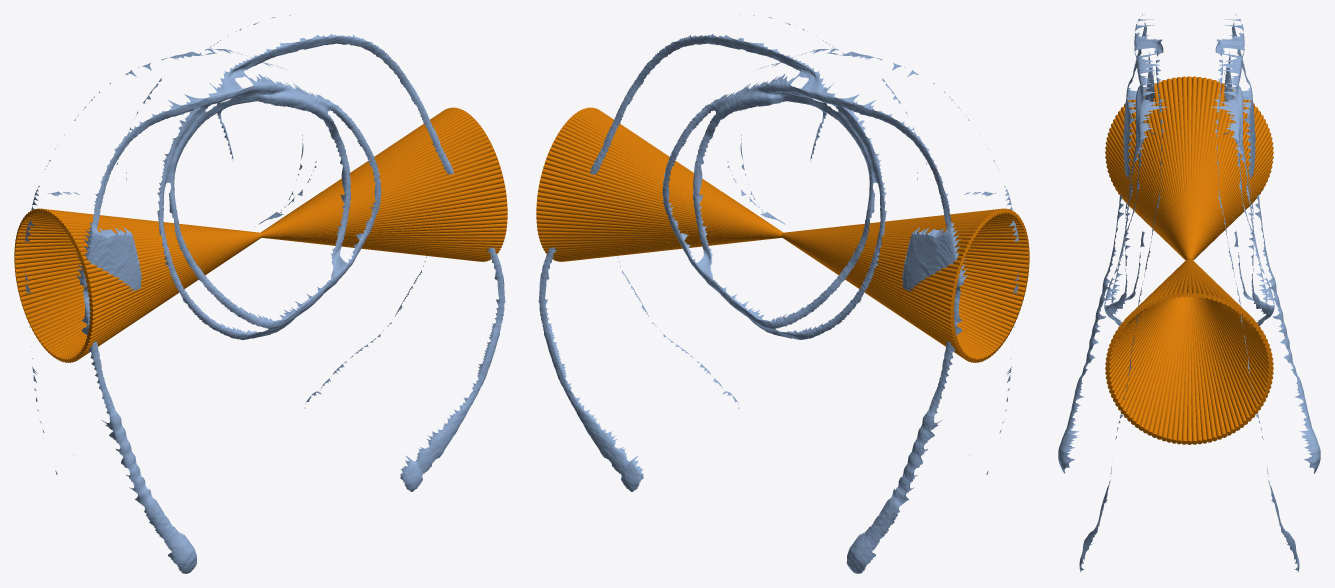
Rendered from A20023510_6145-37-530-7661_DigitalTwin.glb.
3 renders of one model, left to right at view 1: azimuth 30°, elevation 25°; view 2: azimuth 150°, elevation 25°; view 3: azimuth 270°, elevation 25°, orthographic. The views are drawn at different scales.
Visible parts, largest first — view 1: world; view 2: world; view 3: world.
Boxes of the visible parts, box(x1,y1,x2,y2) form: world: box(14, 15, 507, 573); world: box(536, 15, 1029, 573); world: box(1058, 14, 1320, 571).
Size of the model in its own units: 385 by 409 by 197.
